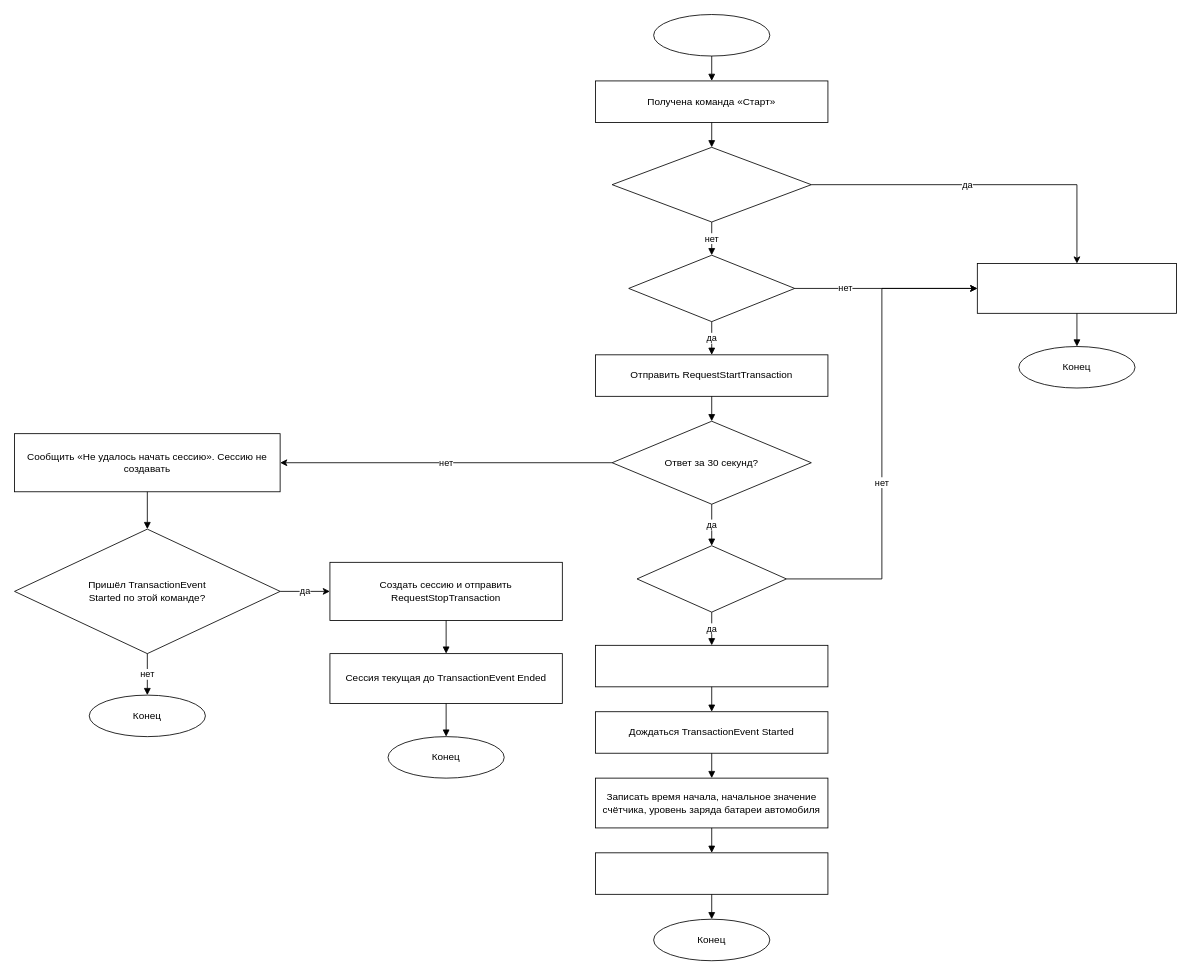
This 1191x975 diagram has some shape labels left out. Here are the shapes that lost their labels. From the top down, the centre of each, then its label:
At pixel 711 35: "Начало".
At pixel 711 184: "У станции уже есть текущая сессия?".
At pixel 711 288: "Станция доступна?".
At pixel 1076 288: "Сообщить об ошибке. Сессию не создавать".
At pixel 711 578: "Ответ Accepted?".
At pixel 711 665: "Создать сессию".
At pixel 711 873: "Сообщить приложению о старте".
